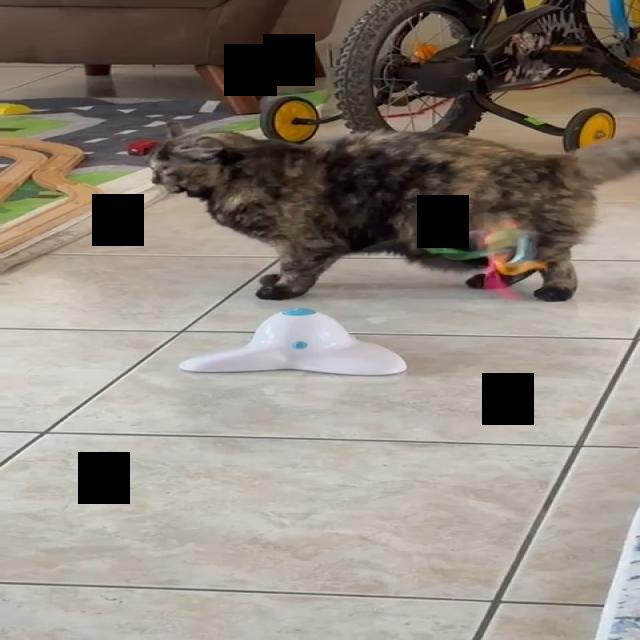authorized: (145, 120, 639, 302)
